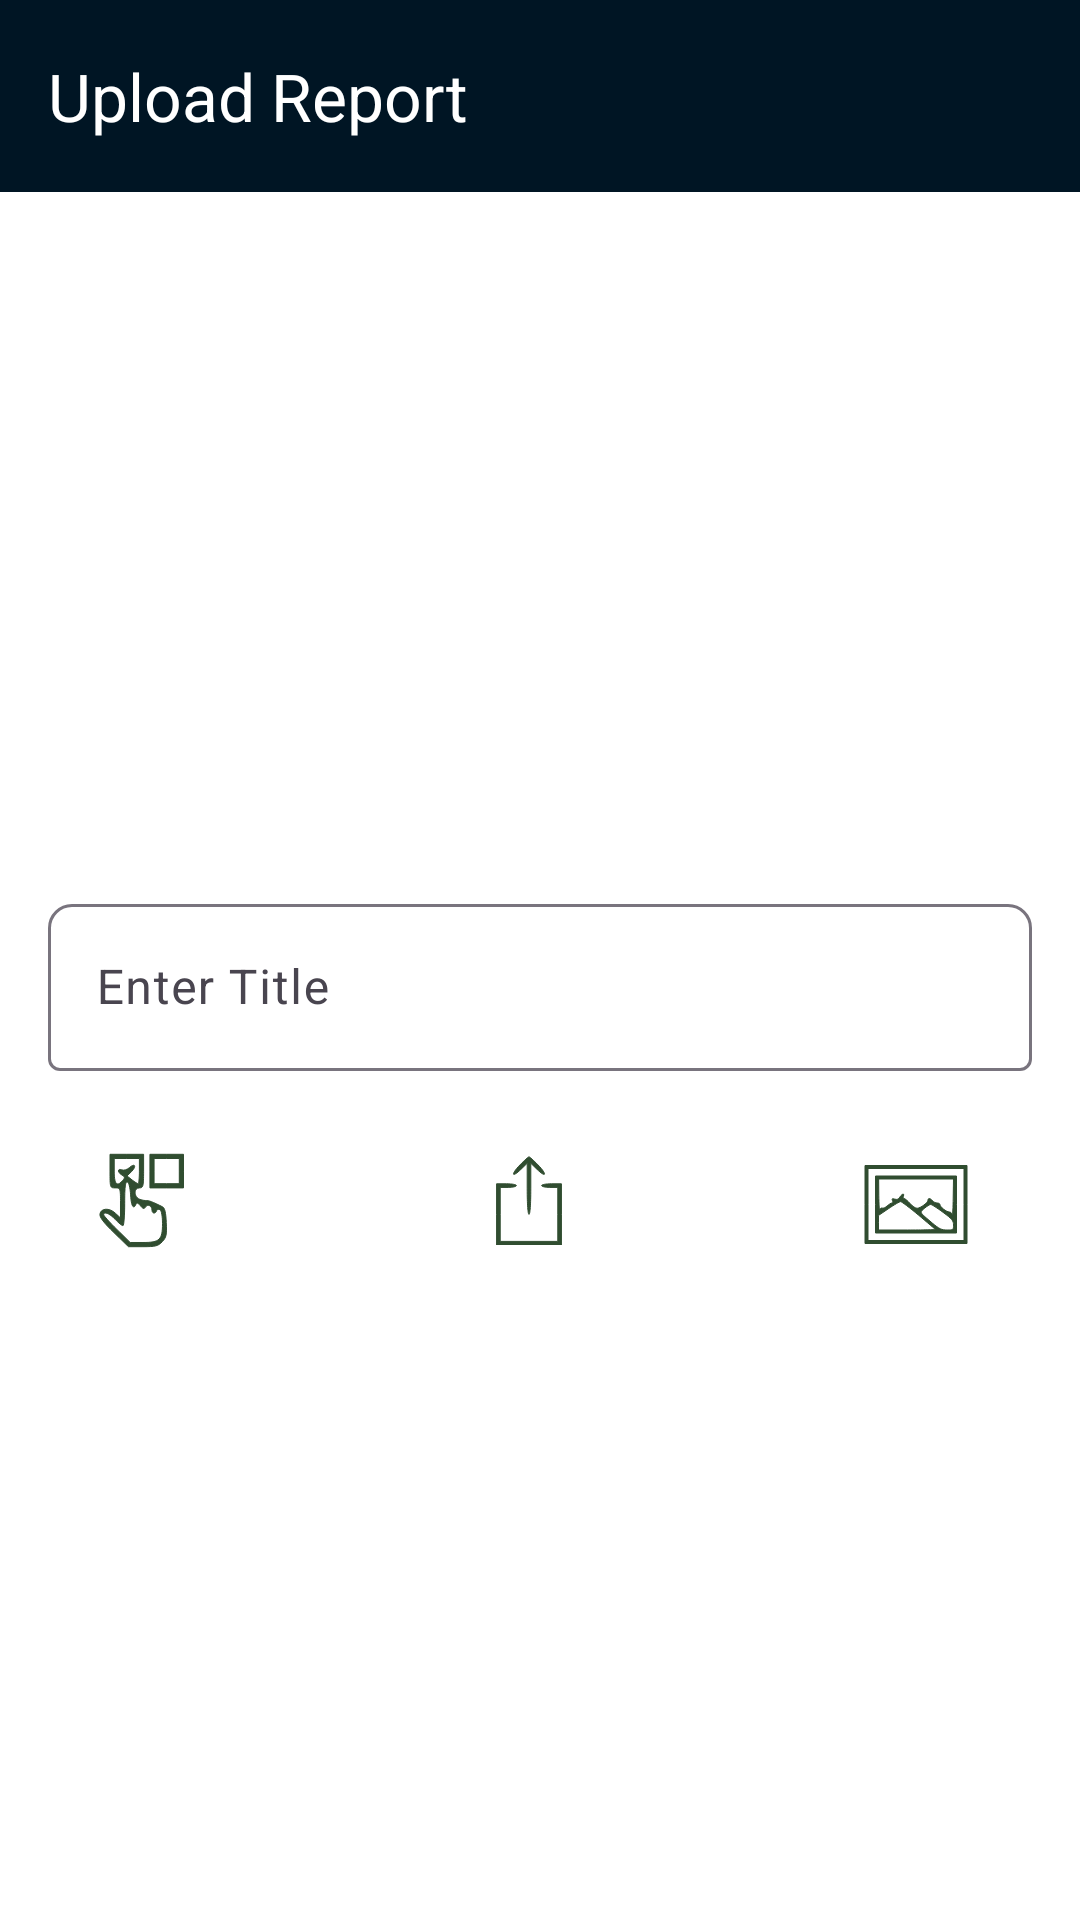

Icon bounding boxes for this 1080*1920 phone screenshot, format rect(x1, y1, x2, y2):
choose: rect(99, 1153, 184, 1248)
gallery: rect(864, 1165, 968, 1244)
upload: rect(496, 1156, 562, 1245)
